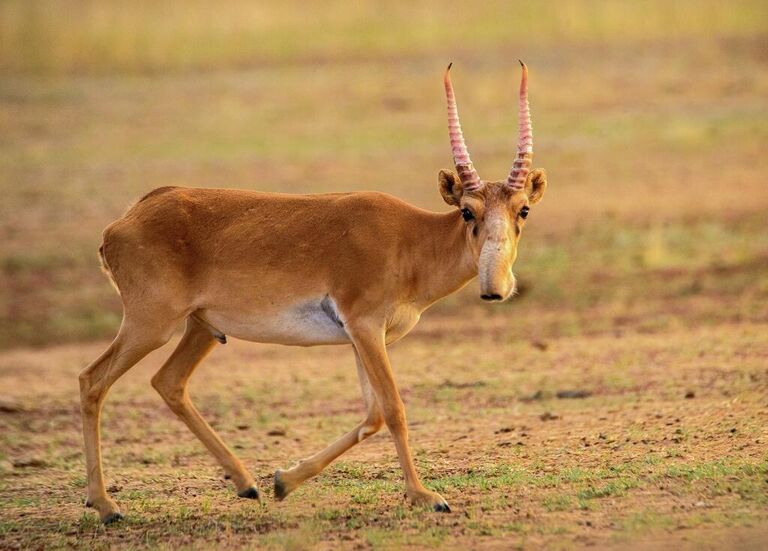saiga: (77, 58, 549, 528)
